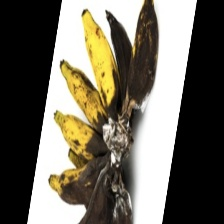banana: (55, 47, 210, 189)
